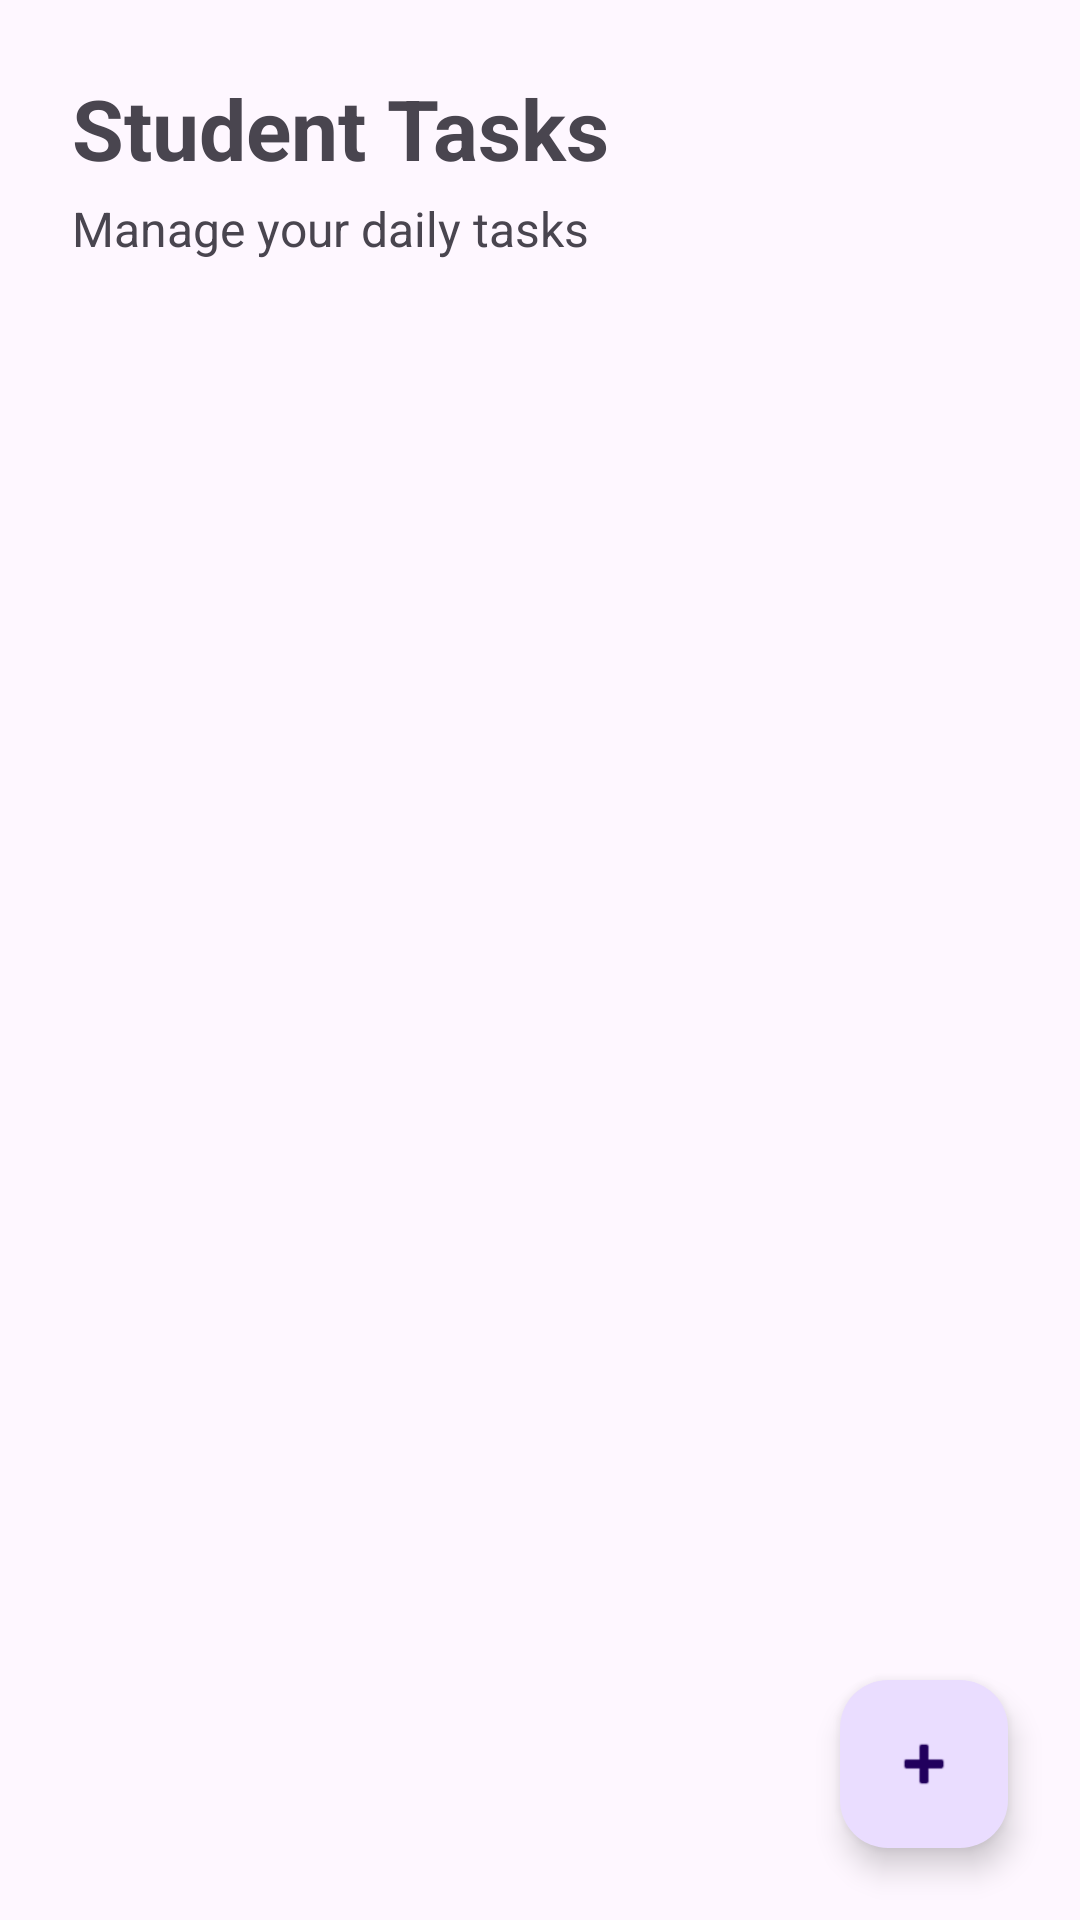

Point at icon controls on the screen. Image size 1080w x 1920h, points as (x=x, y=y).
Add task: (x=924, y=1764)
